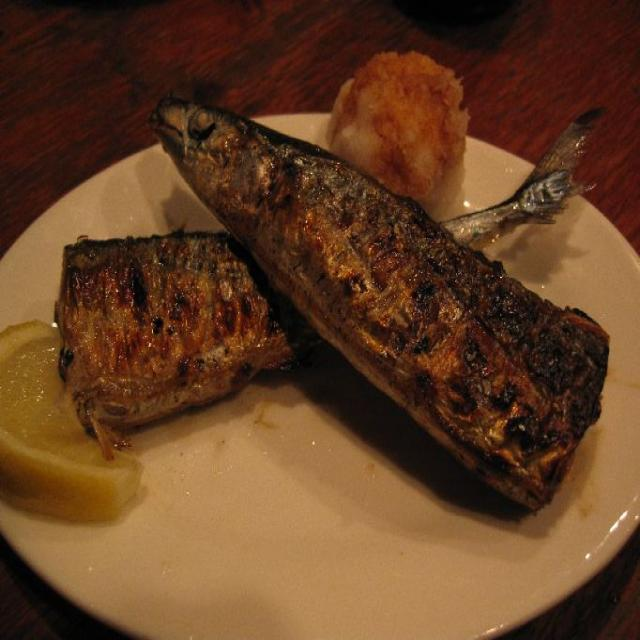熟制海鲜: (31, 76, 617, 541)
